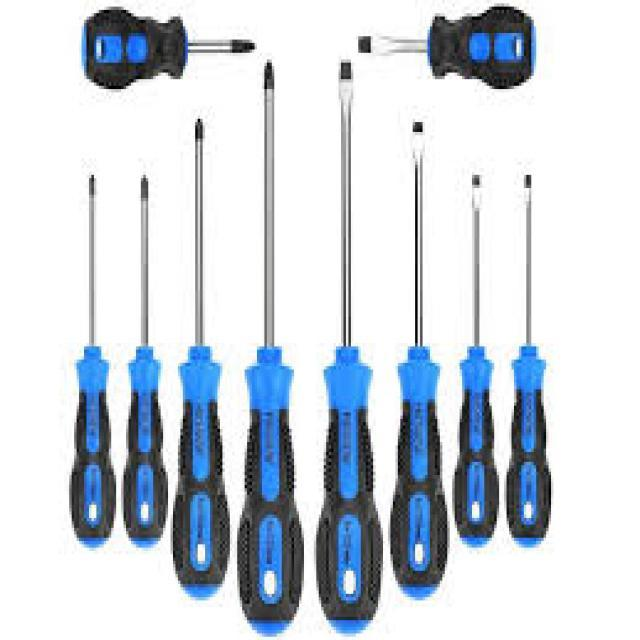screwdriver: (314, 59, 386, 637), (237, 56, 304, 640), (387, 117, 451, 605), (170, 110, 232, 602), (451, 170, 503, 552), (66, 172, 116, 554), (502, 170, 552, 550), (120, 173, 170, 549), (354, 2, 538, 98), (78, 1, 264, 94)
